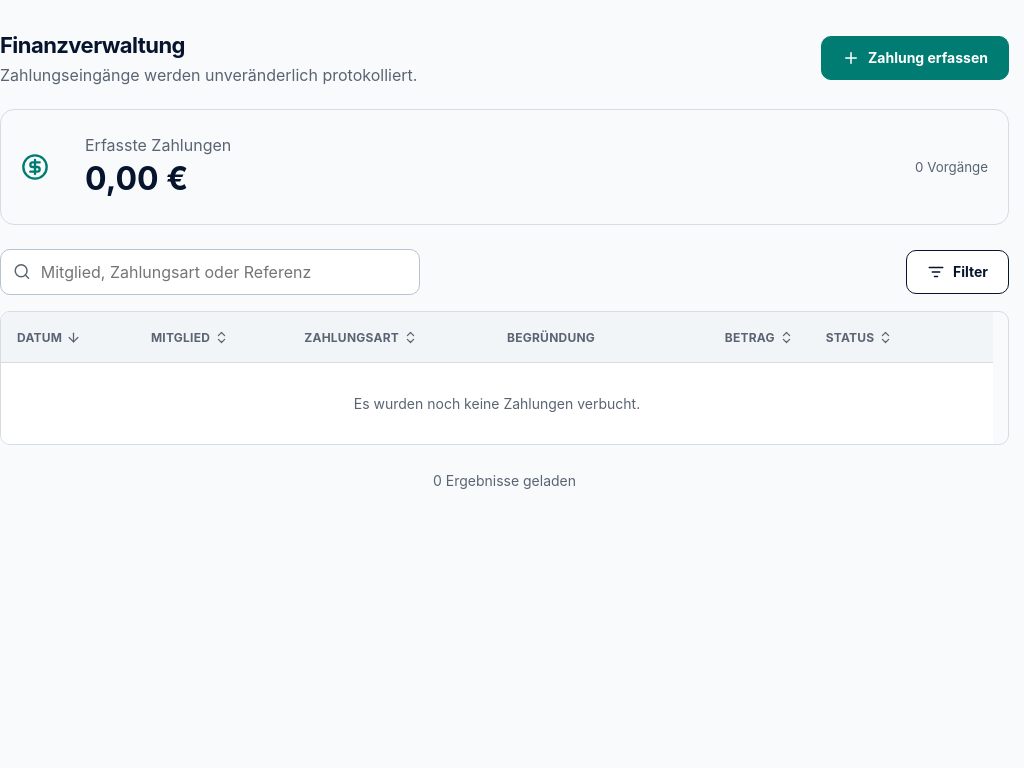
PaymentsPanel › requires a reason for managed payments when configured
Click the button "Zahlung erfassen". click: (915, 58)
box: [821, 36, 1009, 80]
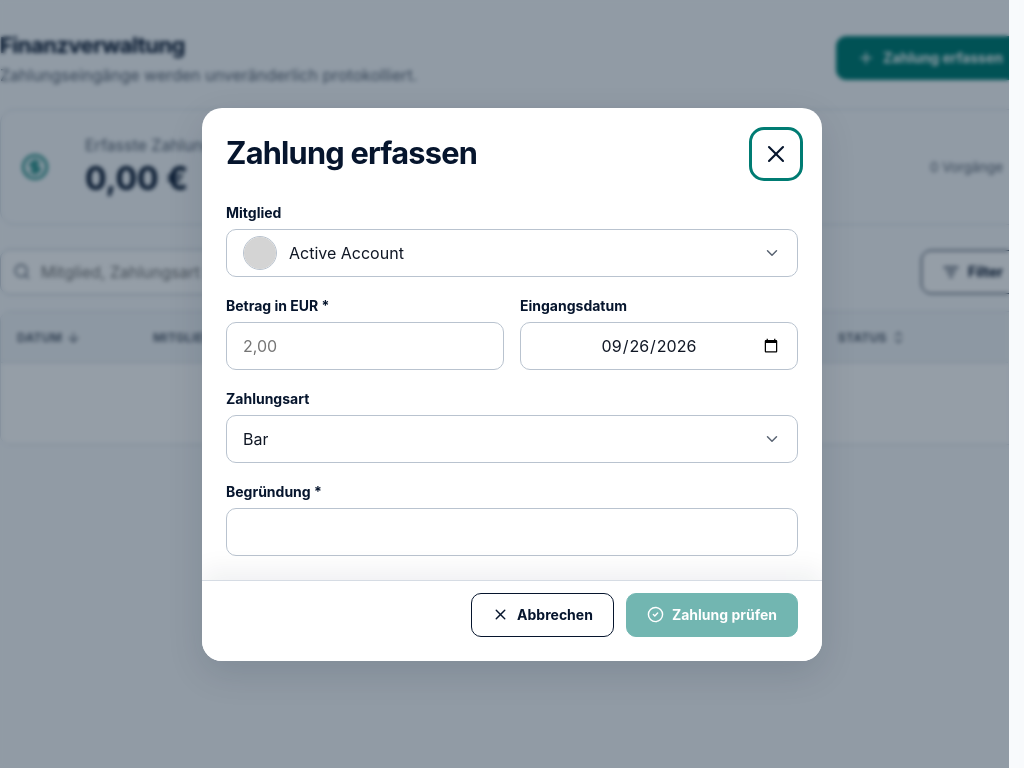
Click the dropdown labelled "Begründung *". click: (512, 532)
box: [226, 508, 798, 556]
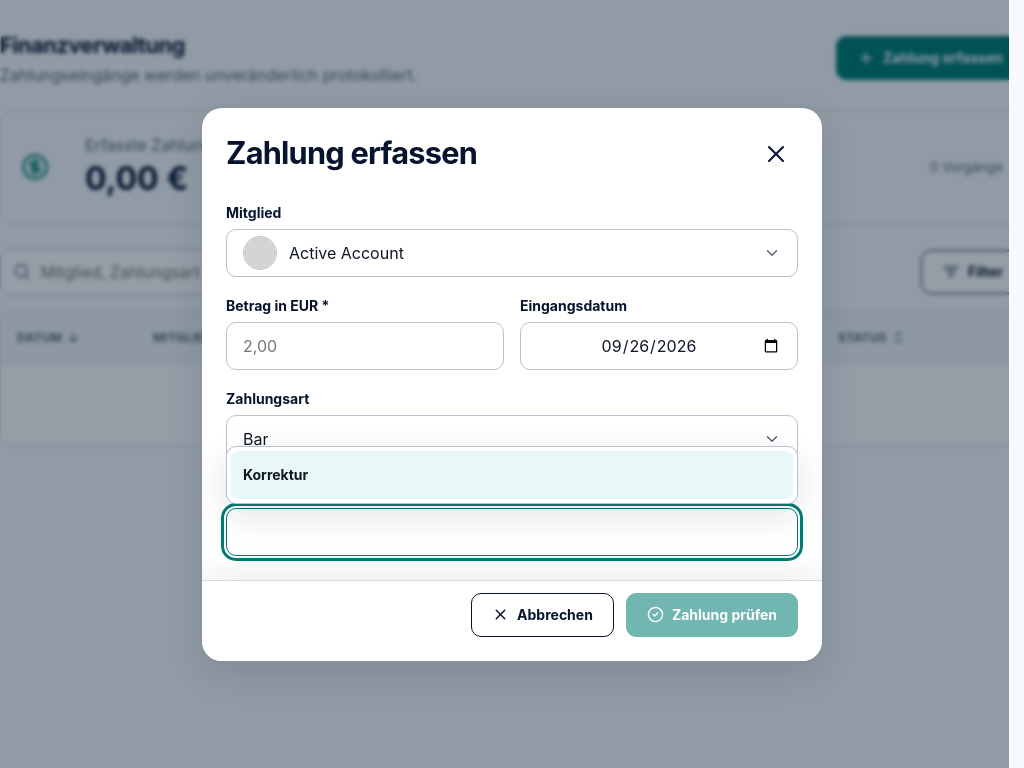
Now the option "Korrektur" is shown, box [231, 450, 793, 498]
